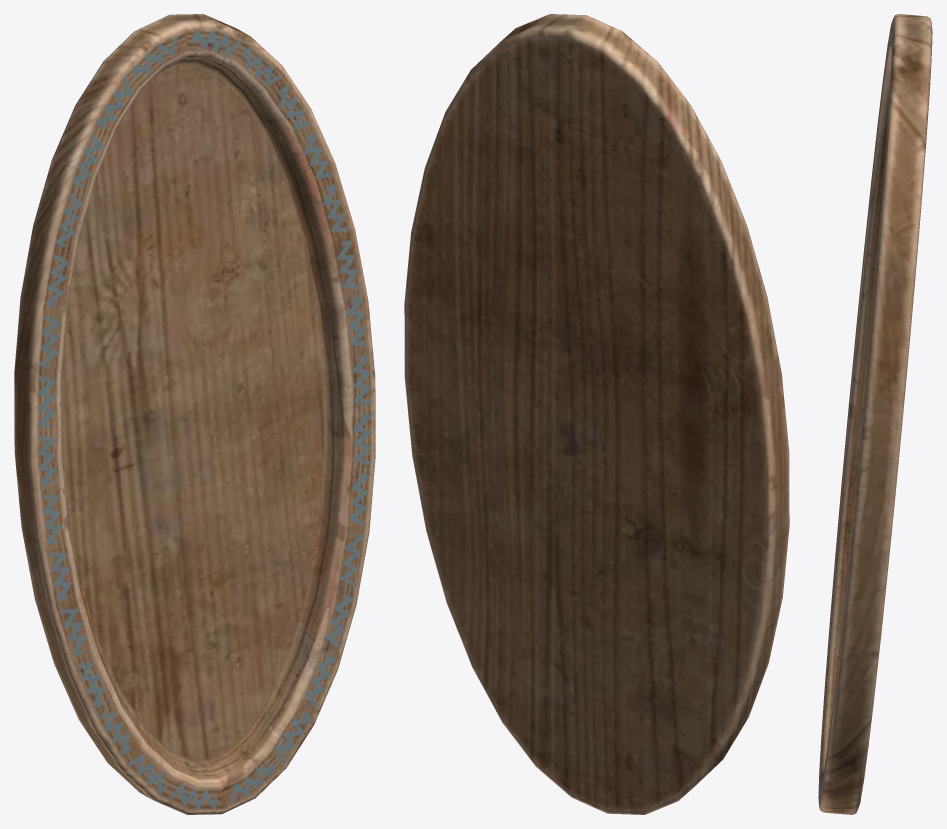
3 renders of one model, left to right at view 1: azimuth 30°, elevation 25°; view 2: azimuth 150°, elevation 25°; view 3: azimuth 270°, elevation 25°, orthographic. The views are drawn at different scales.
Parts seen in each view (by area): view 1: SM_Circle_of_Mirror_Frame_01_LOD0; view 2: SM_Circle_of_Mirror_Frame_01_LOD0; view 3: SM_Circle_of_Mirror_Frame_01_LOD0.
Boxes of the visible parts, bbox=[...] form: SM_Circle_of_Mirror_Frame_01_LOD0: bbox=[14, 14, 375, 814]; SM_Circle_of_Mirror_Frame_01_LOD0: bbox=[404, 14, 789, 814]; SM_Circle_of_Mirror_Frame_01_LOD0: bbox=[818, 14, 932, 814].
Bounding box in the file's own units: 0.7971 × 1.69 × 0.2233.
Materials: 1 (1 with a texture image).
